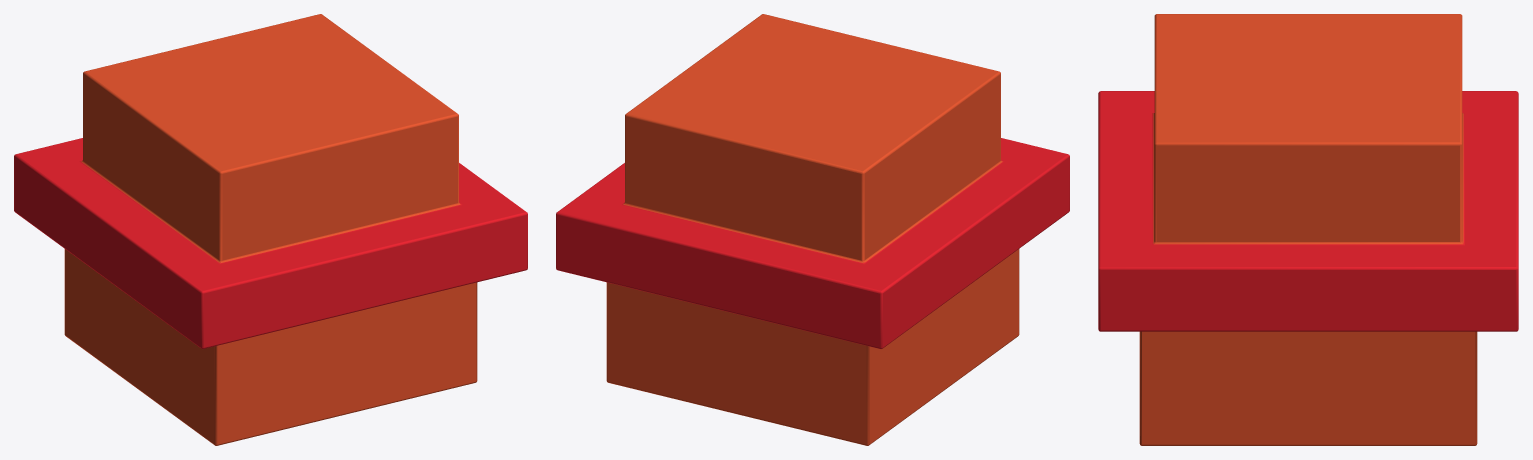
The model's file is atap1.fbx.
The picture shows the model from 3 angles, left to right: view 1: azimuth 30°, elevation 25°; view 2: azimuth 150°, elevation 25°; view 3: azimuth 270°, elevation 25°; orthographic projection. The views are drawn at different scales.
Visible parts, largest first — view 1: Cube; view 2: Cube; view 3: Cube.
Part boxes in pixels (bbox=[...]): Cube: bbox=[14, 14, 527, 445]; Cube: bbox=[556, 14, 1069, 445]; Cube: bbox=[1098, 14, 1518, 445].
Bounding box in the file's own units: 1.74 × 1.36 × 1.74.
